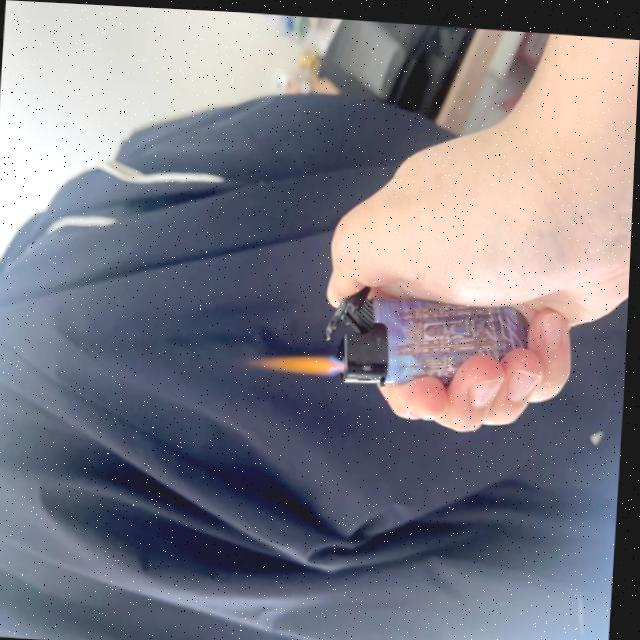Fire: (251, 345, 349, 377)
